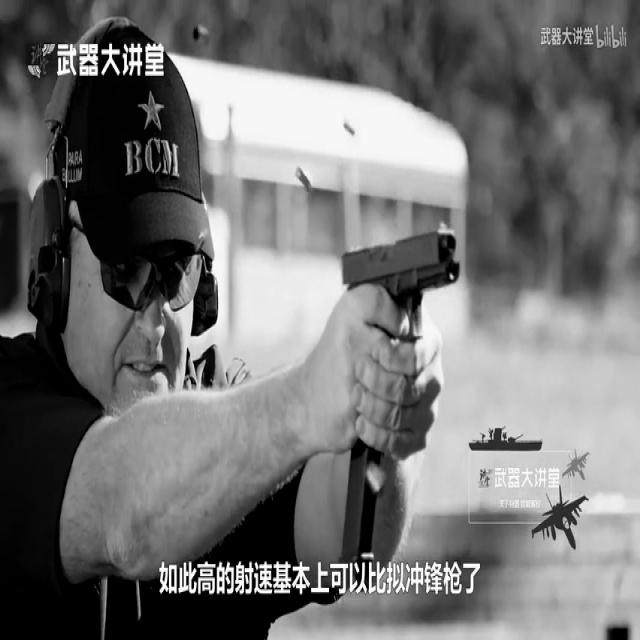Sub-machine-gun: (303, 158, 529, 578)
